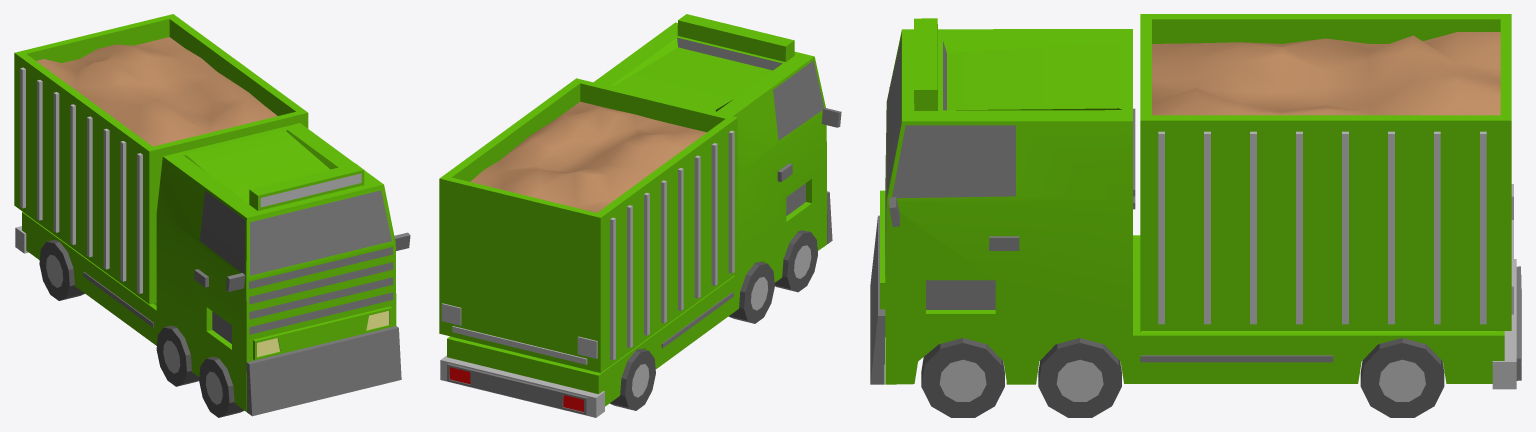
File: SM_Truck_02_02.FBX
3 views of the same model, side by side, from view 1: azimuth 30°, elevation 25°; view 2: azimuth 150°, elevation 25°; view 3: azimuth 270°, elevation 25° (orthographic). The views are drawn at different scales.
Visible parts, largest first — view 1: SM_Truck_02_02, SM_Wheel_RBack, SM_Wheel_RFront, SM_Wheel_RMid; view 2: SM_Truck_02_02, SM_Wheel_RMid, SM_Wheel_RBack, SM_Wheel_RFront; view 3: SM_Truck_02_02, SM_Wheel_LFront001, SM_Wheel_LBack, SM_Wheel_LMid.
Boxes of the visible parts, x1,y1,x2,y2 form: SM_Truck_02_02: [14, 14, 410, 416]; SM_Wheel_RBack: [39, 240, 84, 300]; SM_Wheel_RFront: [199, 356, 244, 417]; SM_Wheel_RMid: [156, 325, 199, 386]; SM_Truck_02_02: [439, 14, 841, 417]; SM_Wheel_RMid: [728, 262, 774, 323]; SM_Wheel_RBack: [610, 349, 655, 410]; SM_Wheel_RFront: [774, 230, 817, 292]; SM_Truck_02_02: [870, 14, 1521, 389]; SM_Wheel_LFront001: [921, 338, 1004, 417]; SM_Wheel_LBack: [1360, 338, 1444, 417]; SM_Wheel_LMid: [1038, 338, 1121, 417].
Bounding box in the file's own units: 1.85 × 2.21 × 4.19.
1 material, 1 textured.
